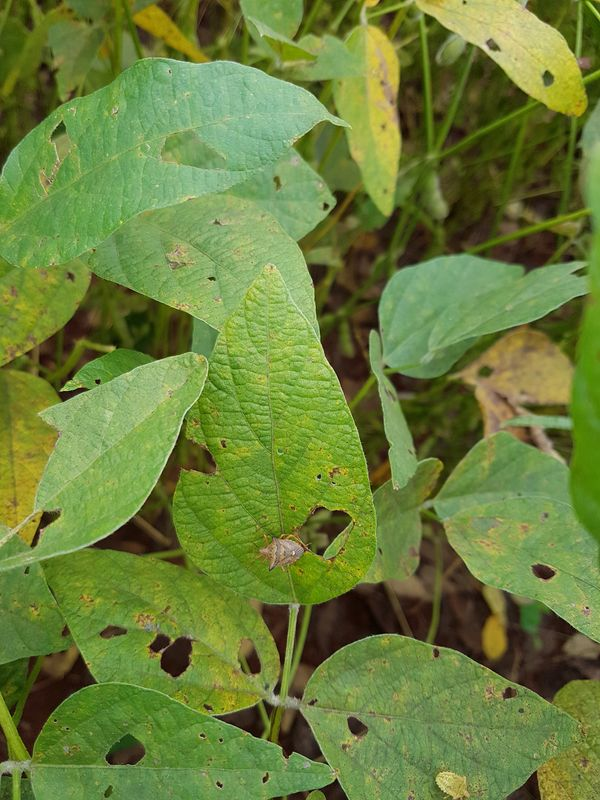Euschistus_heros_adulto: (250, 524, 316, 582)
Euschistus_heros_ninfa: (427, 761, 476, 800)
